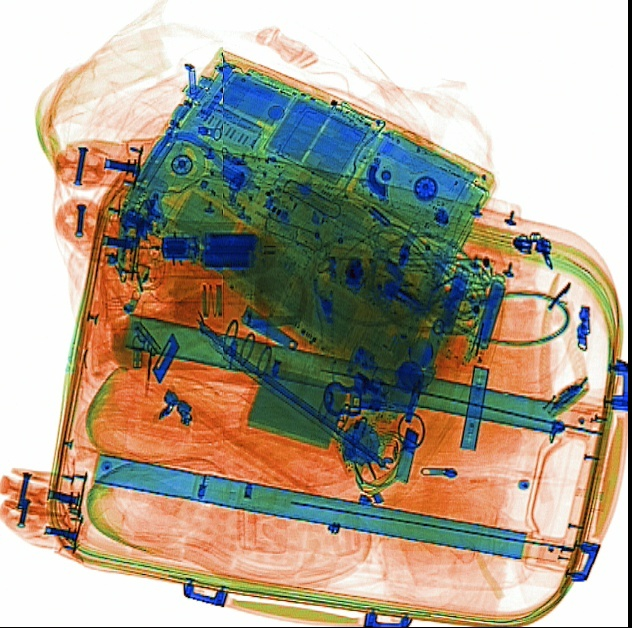powerbank: (417, 248, 513, 369)
